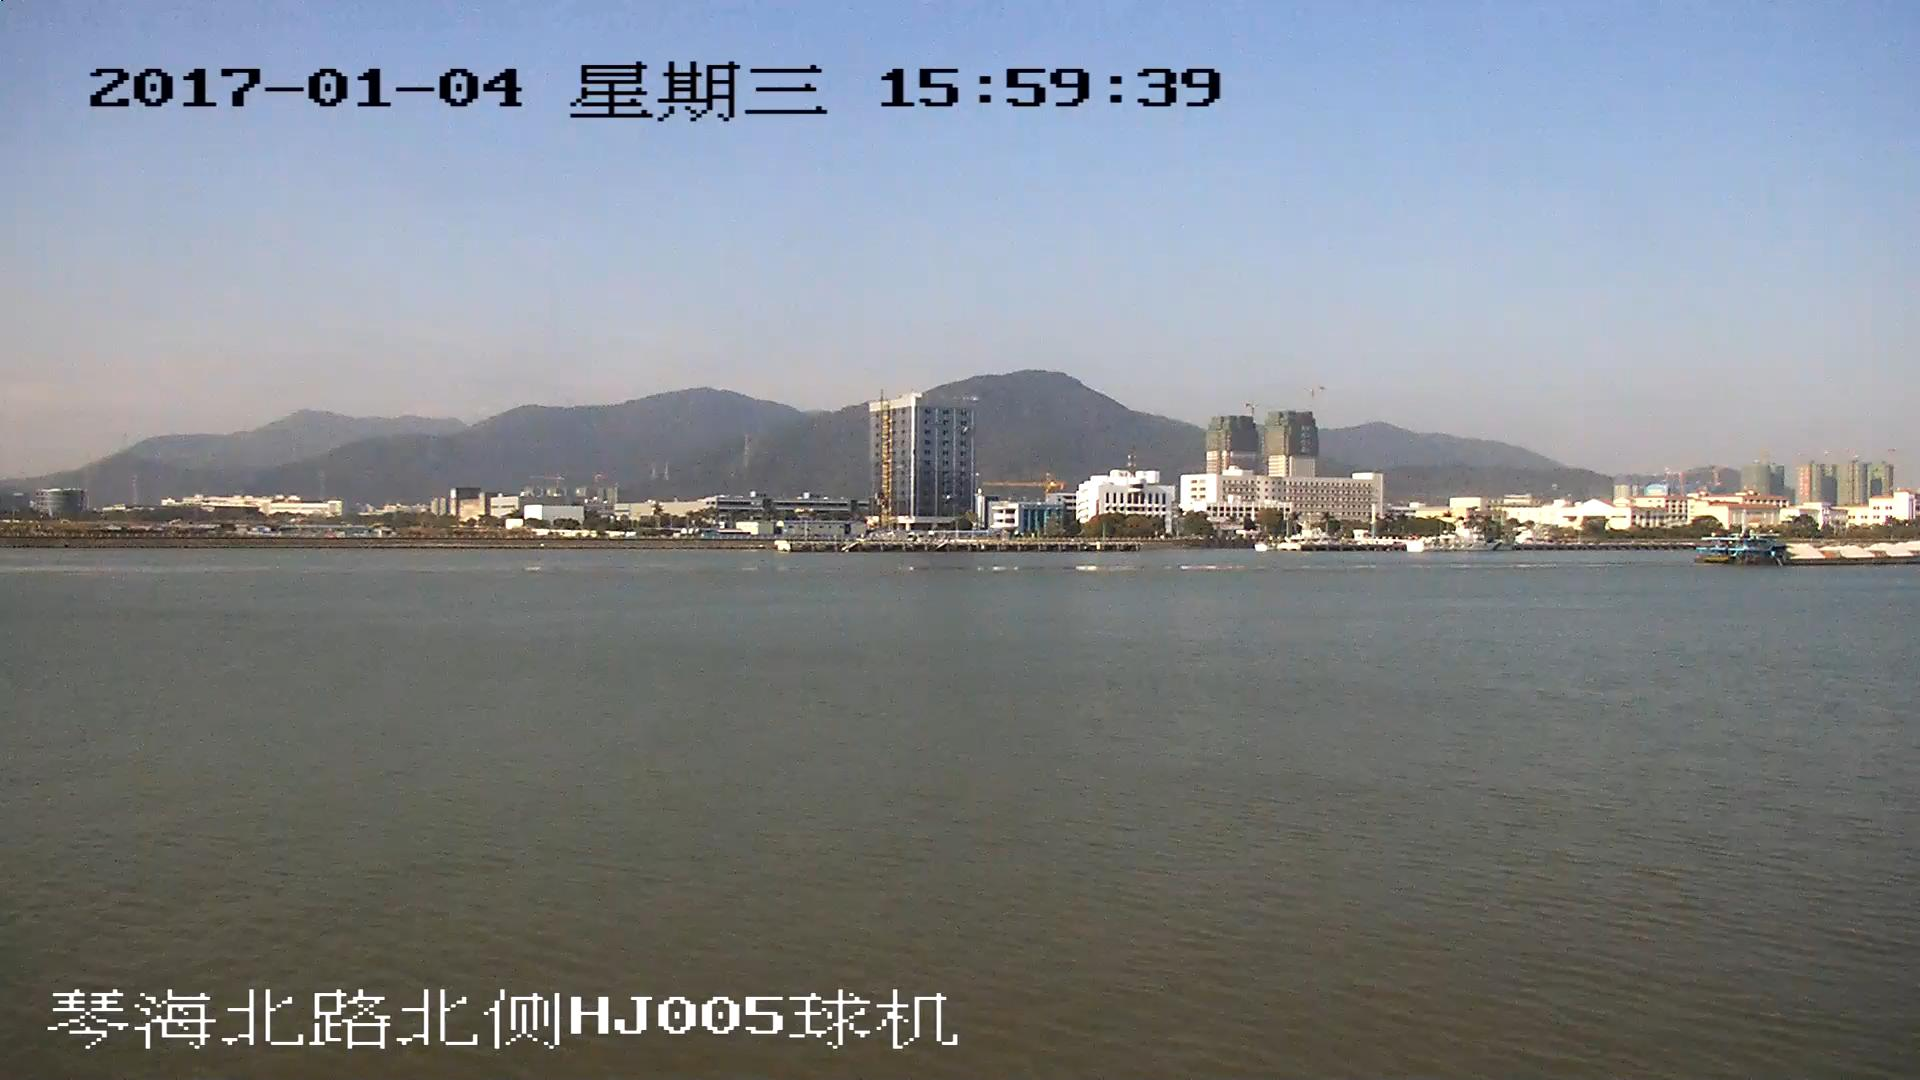ore carrier: (1695, 533, 1920, 566)
